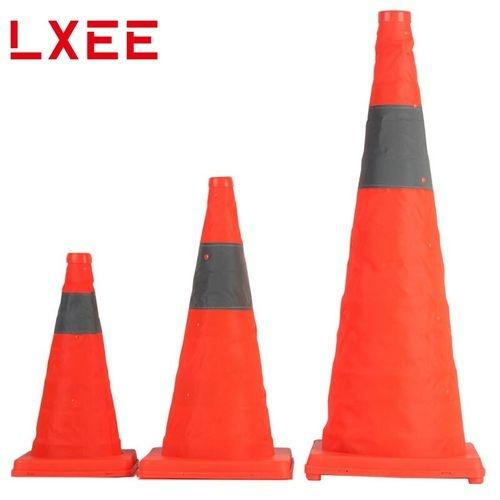cone_barrel: (307, 15, 481, 474), (144, 183, 287, 480), (13, 253, 136, 472)
